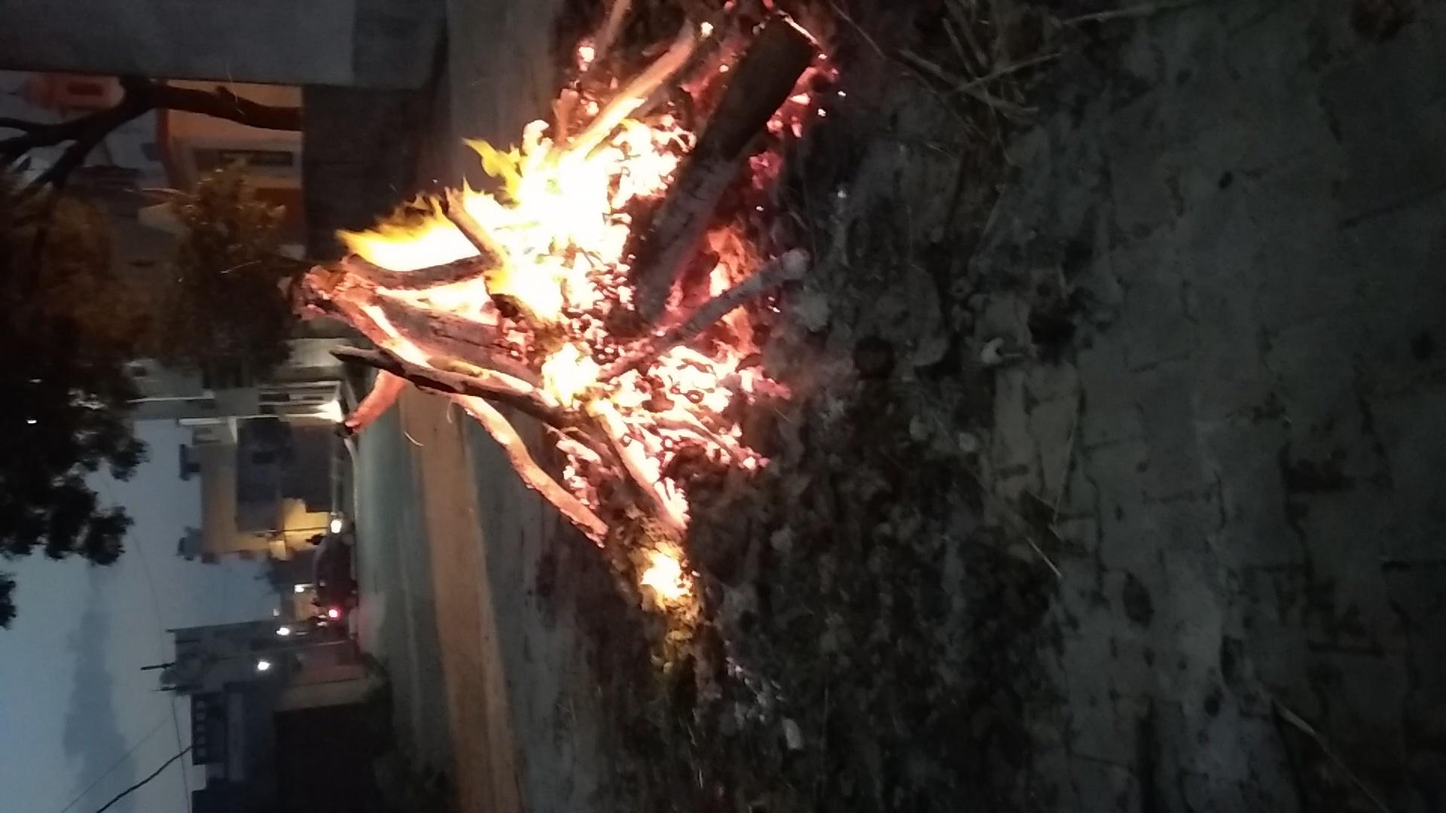fire: (364, 129, 1293, 460)
